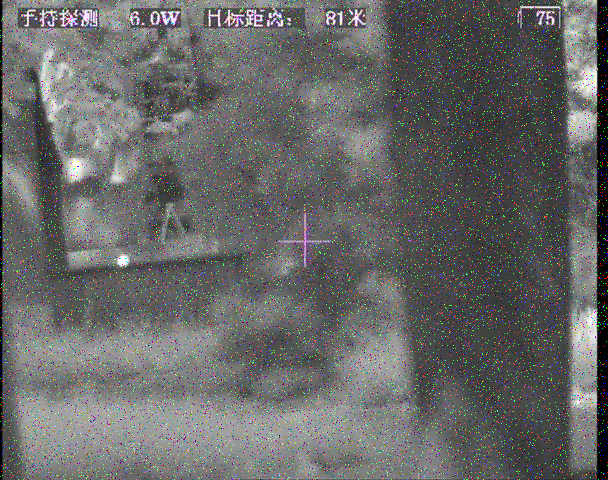my: (115, 253, 129, 267)
